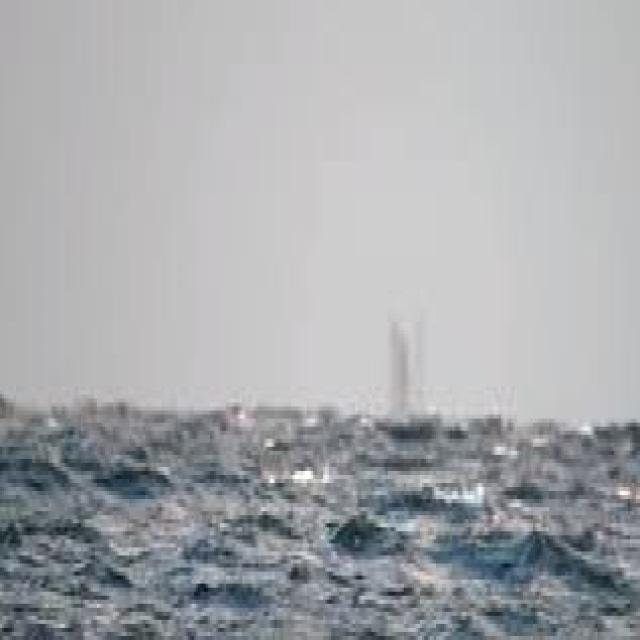fishing boat: (368, 316, 444, 448)
